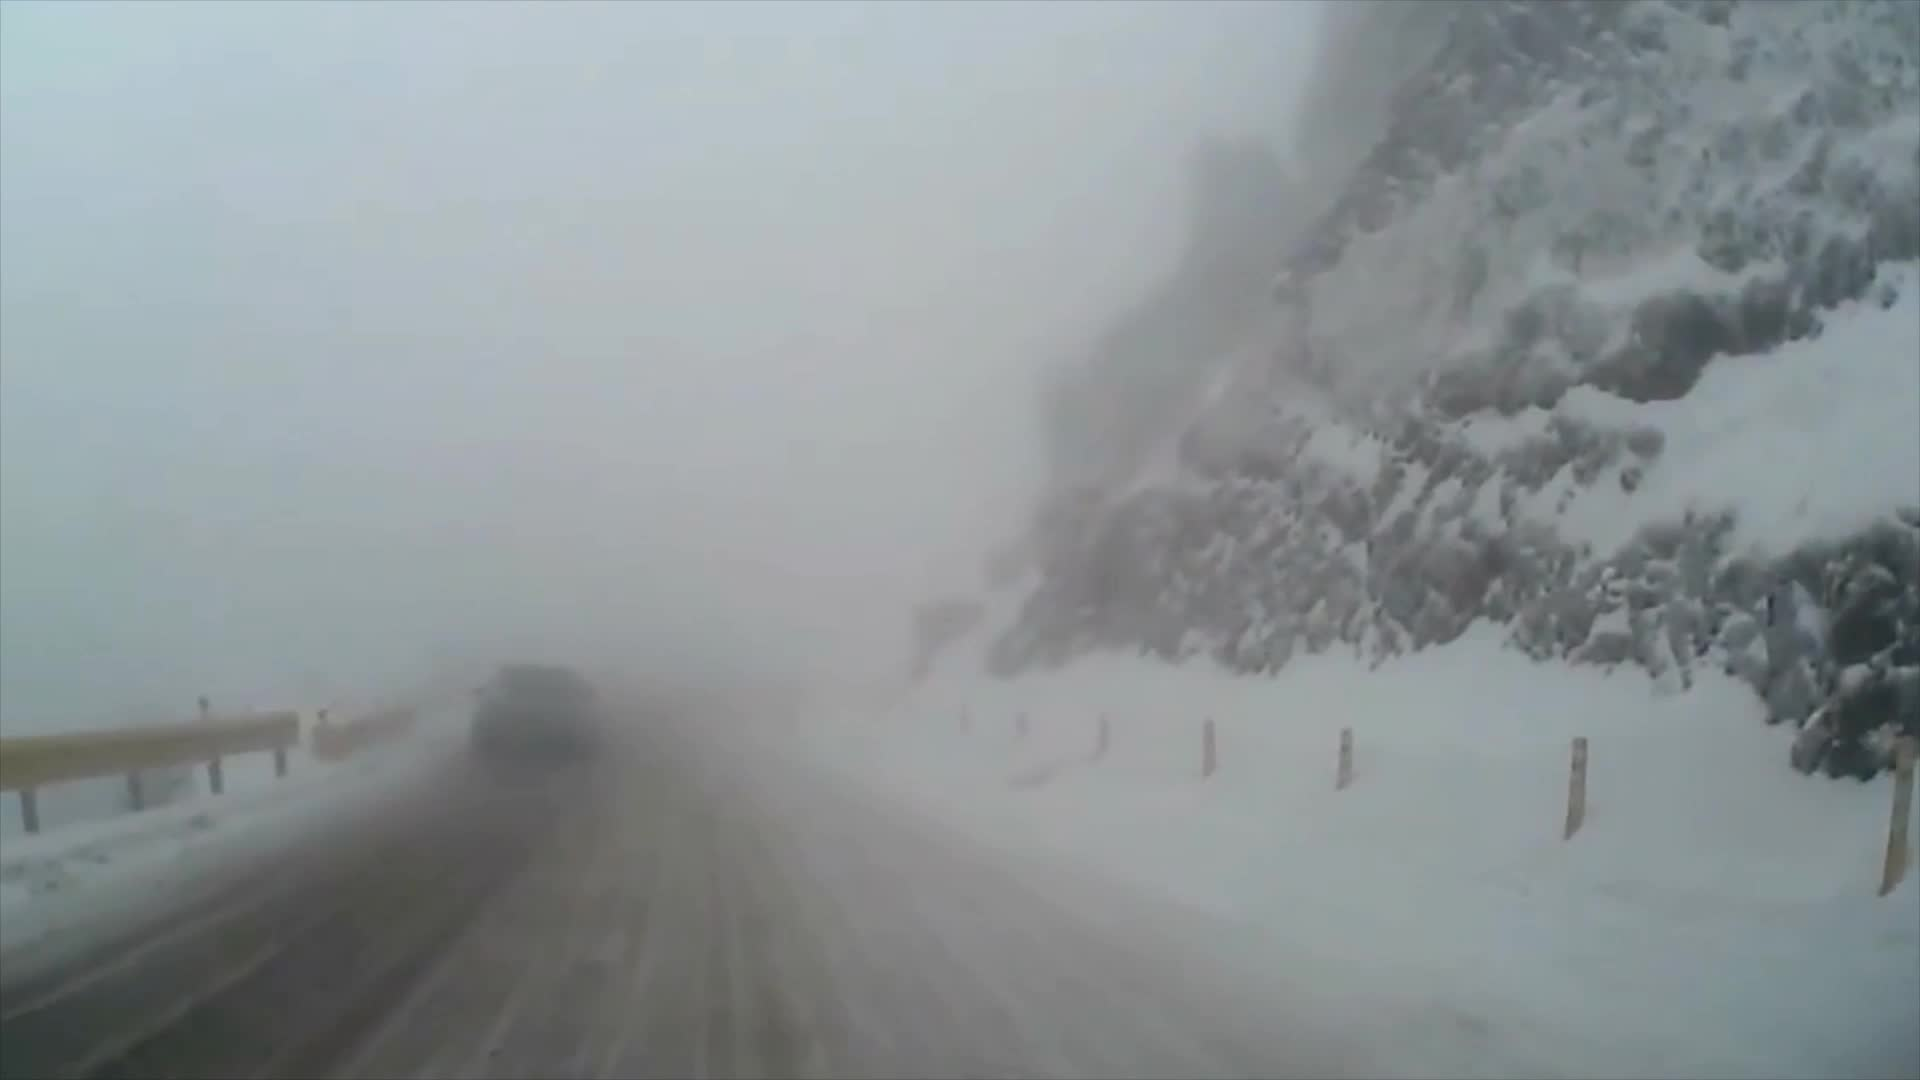vehicle: (471, 662, 597, 756)
